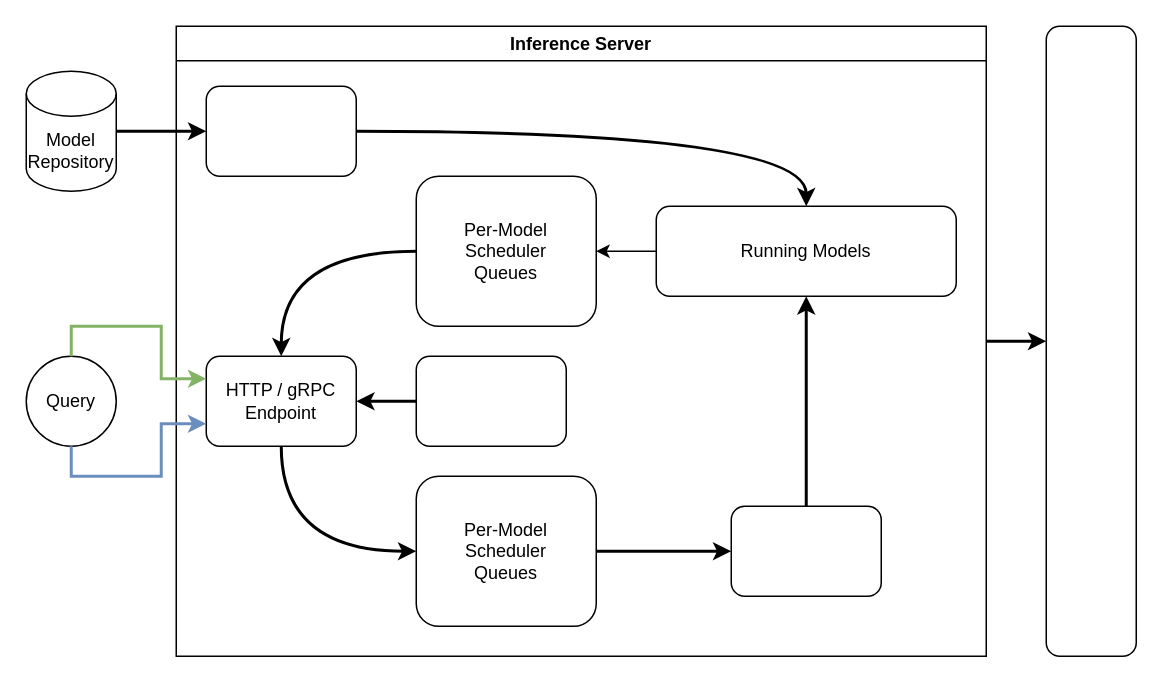
Image size: 1163x683. Some labels were removed from this diagram. Each missing label, with the centre of its shape:
CPUs / GPUs: the point at 1090,340
Model Management: the point at 280,130
Scheduler: the point at 805,550
Status/Health Metrics: the point at 490,400
